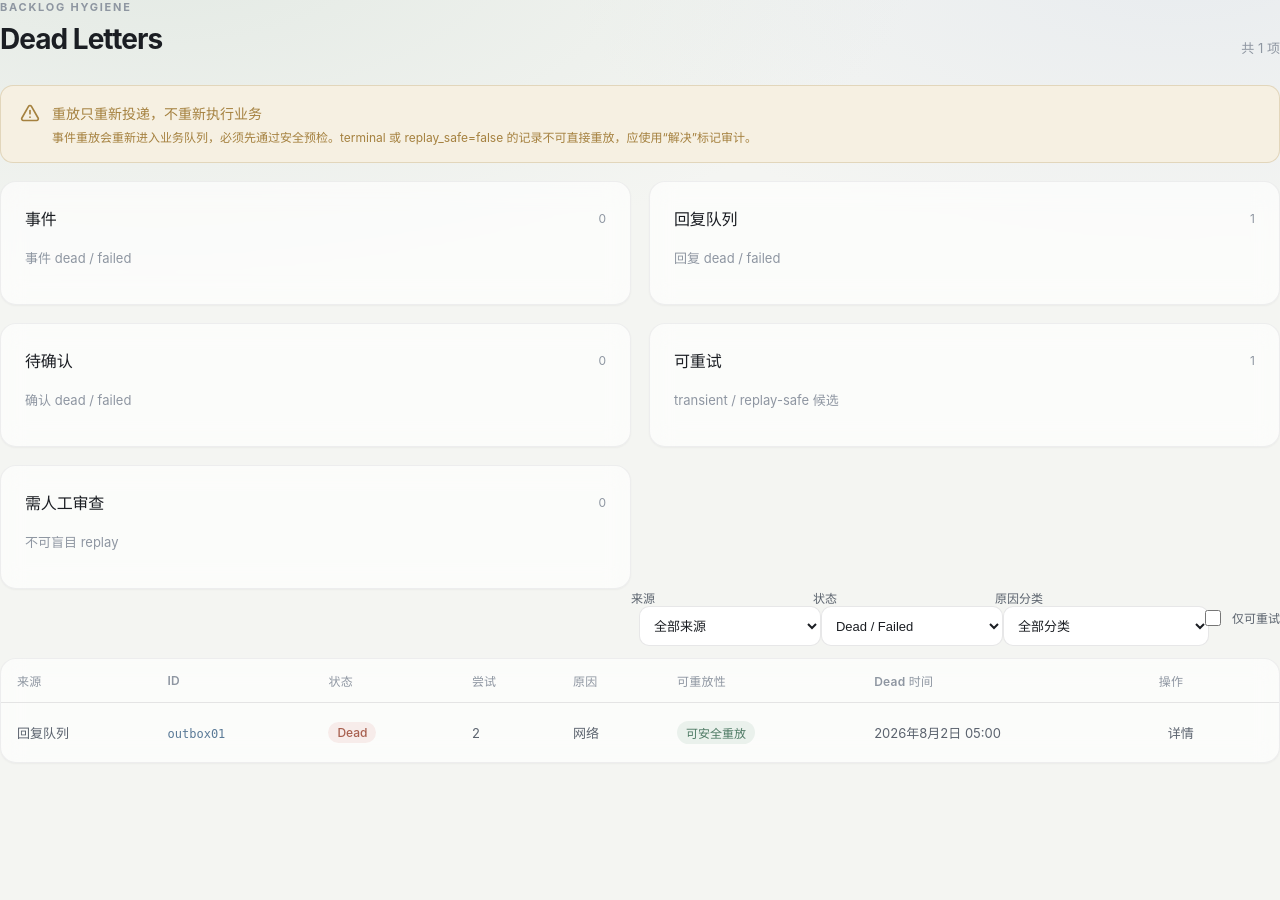
Test: DeadLettersPage › opens the detail drawer with audit history
What coordinates should you click on to do the following:
click the button "详情"
I would click on:
 (1181, 732)
Its box is left=1159, top=717, right=1203, bottom=748.
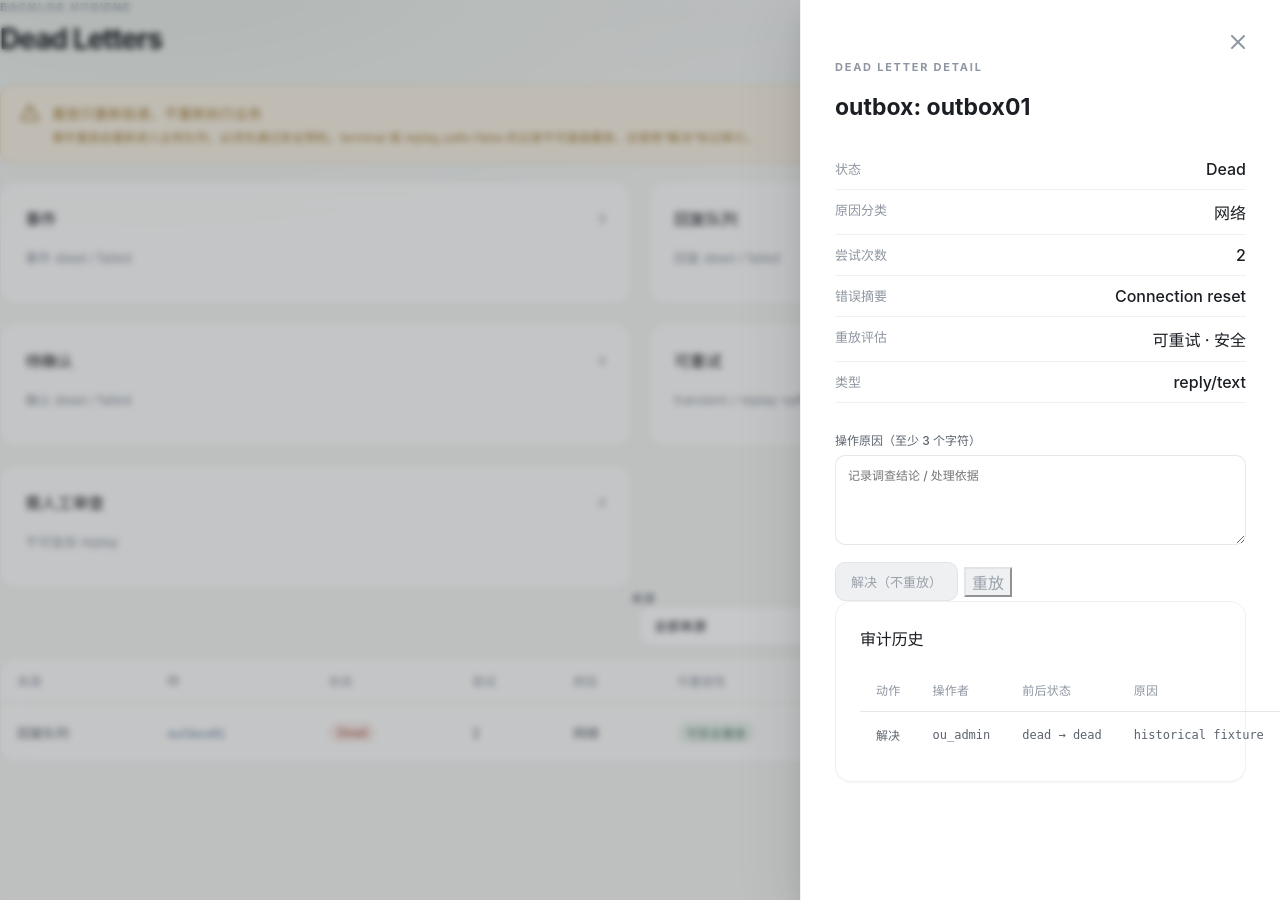
Now the heading "outbox: outbox01" is shown, box left=835, top=93, right=1030, bottom=121
Now the text "Connection reset" is shown, box left=1115, top=286, right=1246, bottom=306
Now the heading "审计历史" is shown, box left=860, top=626, right=923, bottom=650
